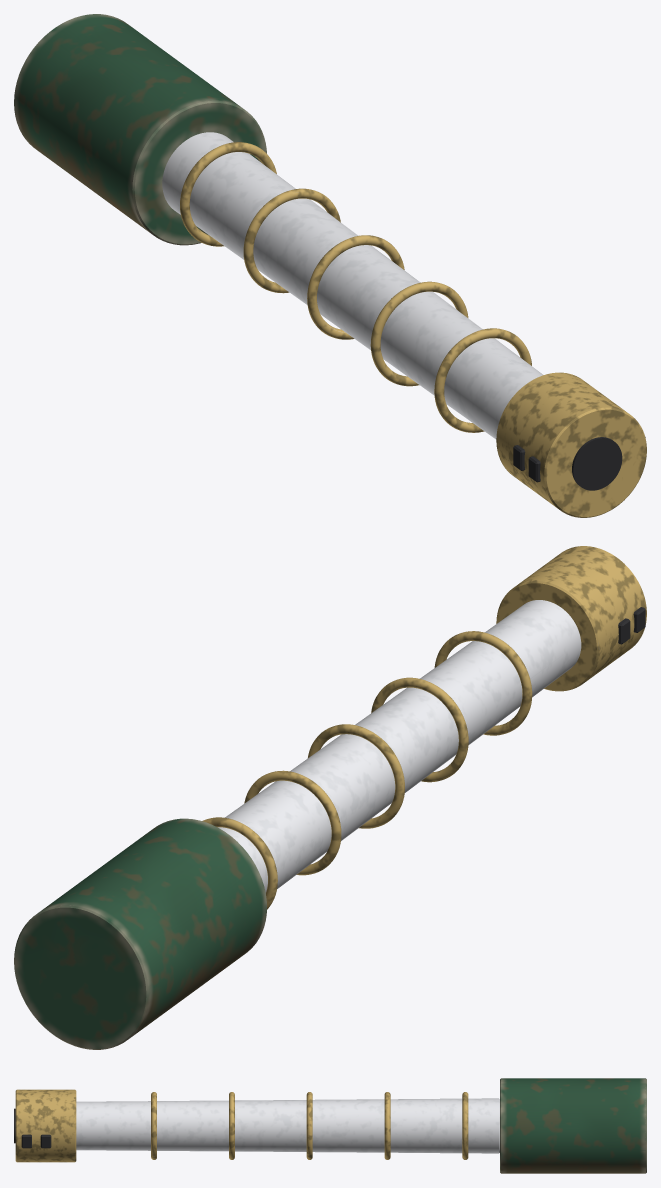
The model's file is colossus_cannon.glb.
The picture shows the model from 3 angles, top to bottom: view 1: azimuth 30°, elevation 25°; view 2: azimuth 150°, elevation 25°; view 3: azimuth 270°, elevation 25°; orthographic projection. The views are drawn at different scales.
Parts seen in each view (by area): view 1: colossus_cannon; view 2: colossus_cannon; view 3: colossus_cannon.
Part boxes in pixels (x1,y1,x2,y2): colossus_cannon: (14, 14, 646, 517); colossus_cannon: (14, 546, 646, 1049); colossus_cannon: (14, 1078, 646, 1173).
Bounding box in the file's own units: 1.1 × 1.1 × 7.32.
Materials: 4 (3 with a texture image).
